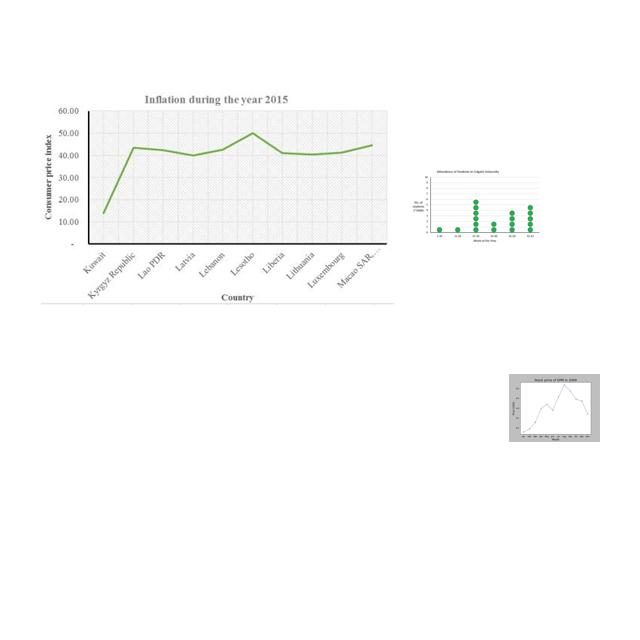Graph: (41, 92, 394, 305), (410, 168, 542, 245), (509, 374, 600, 442)
